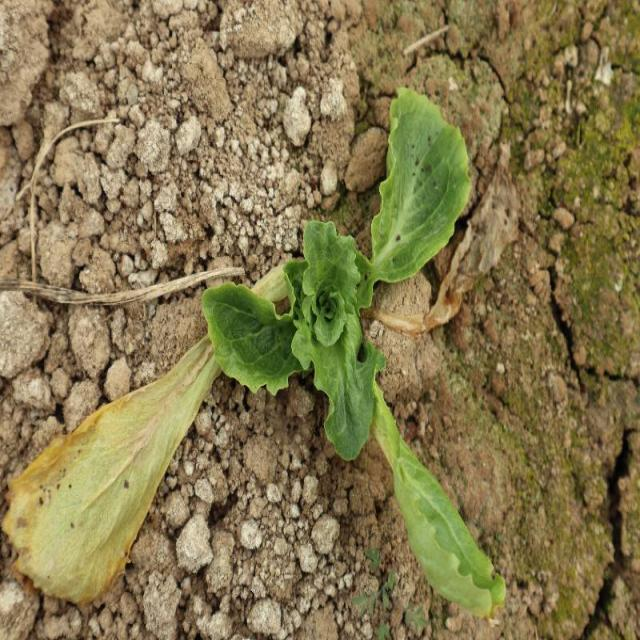crop: (195, 87, 521, 619)
